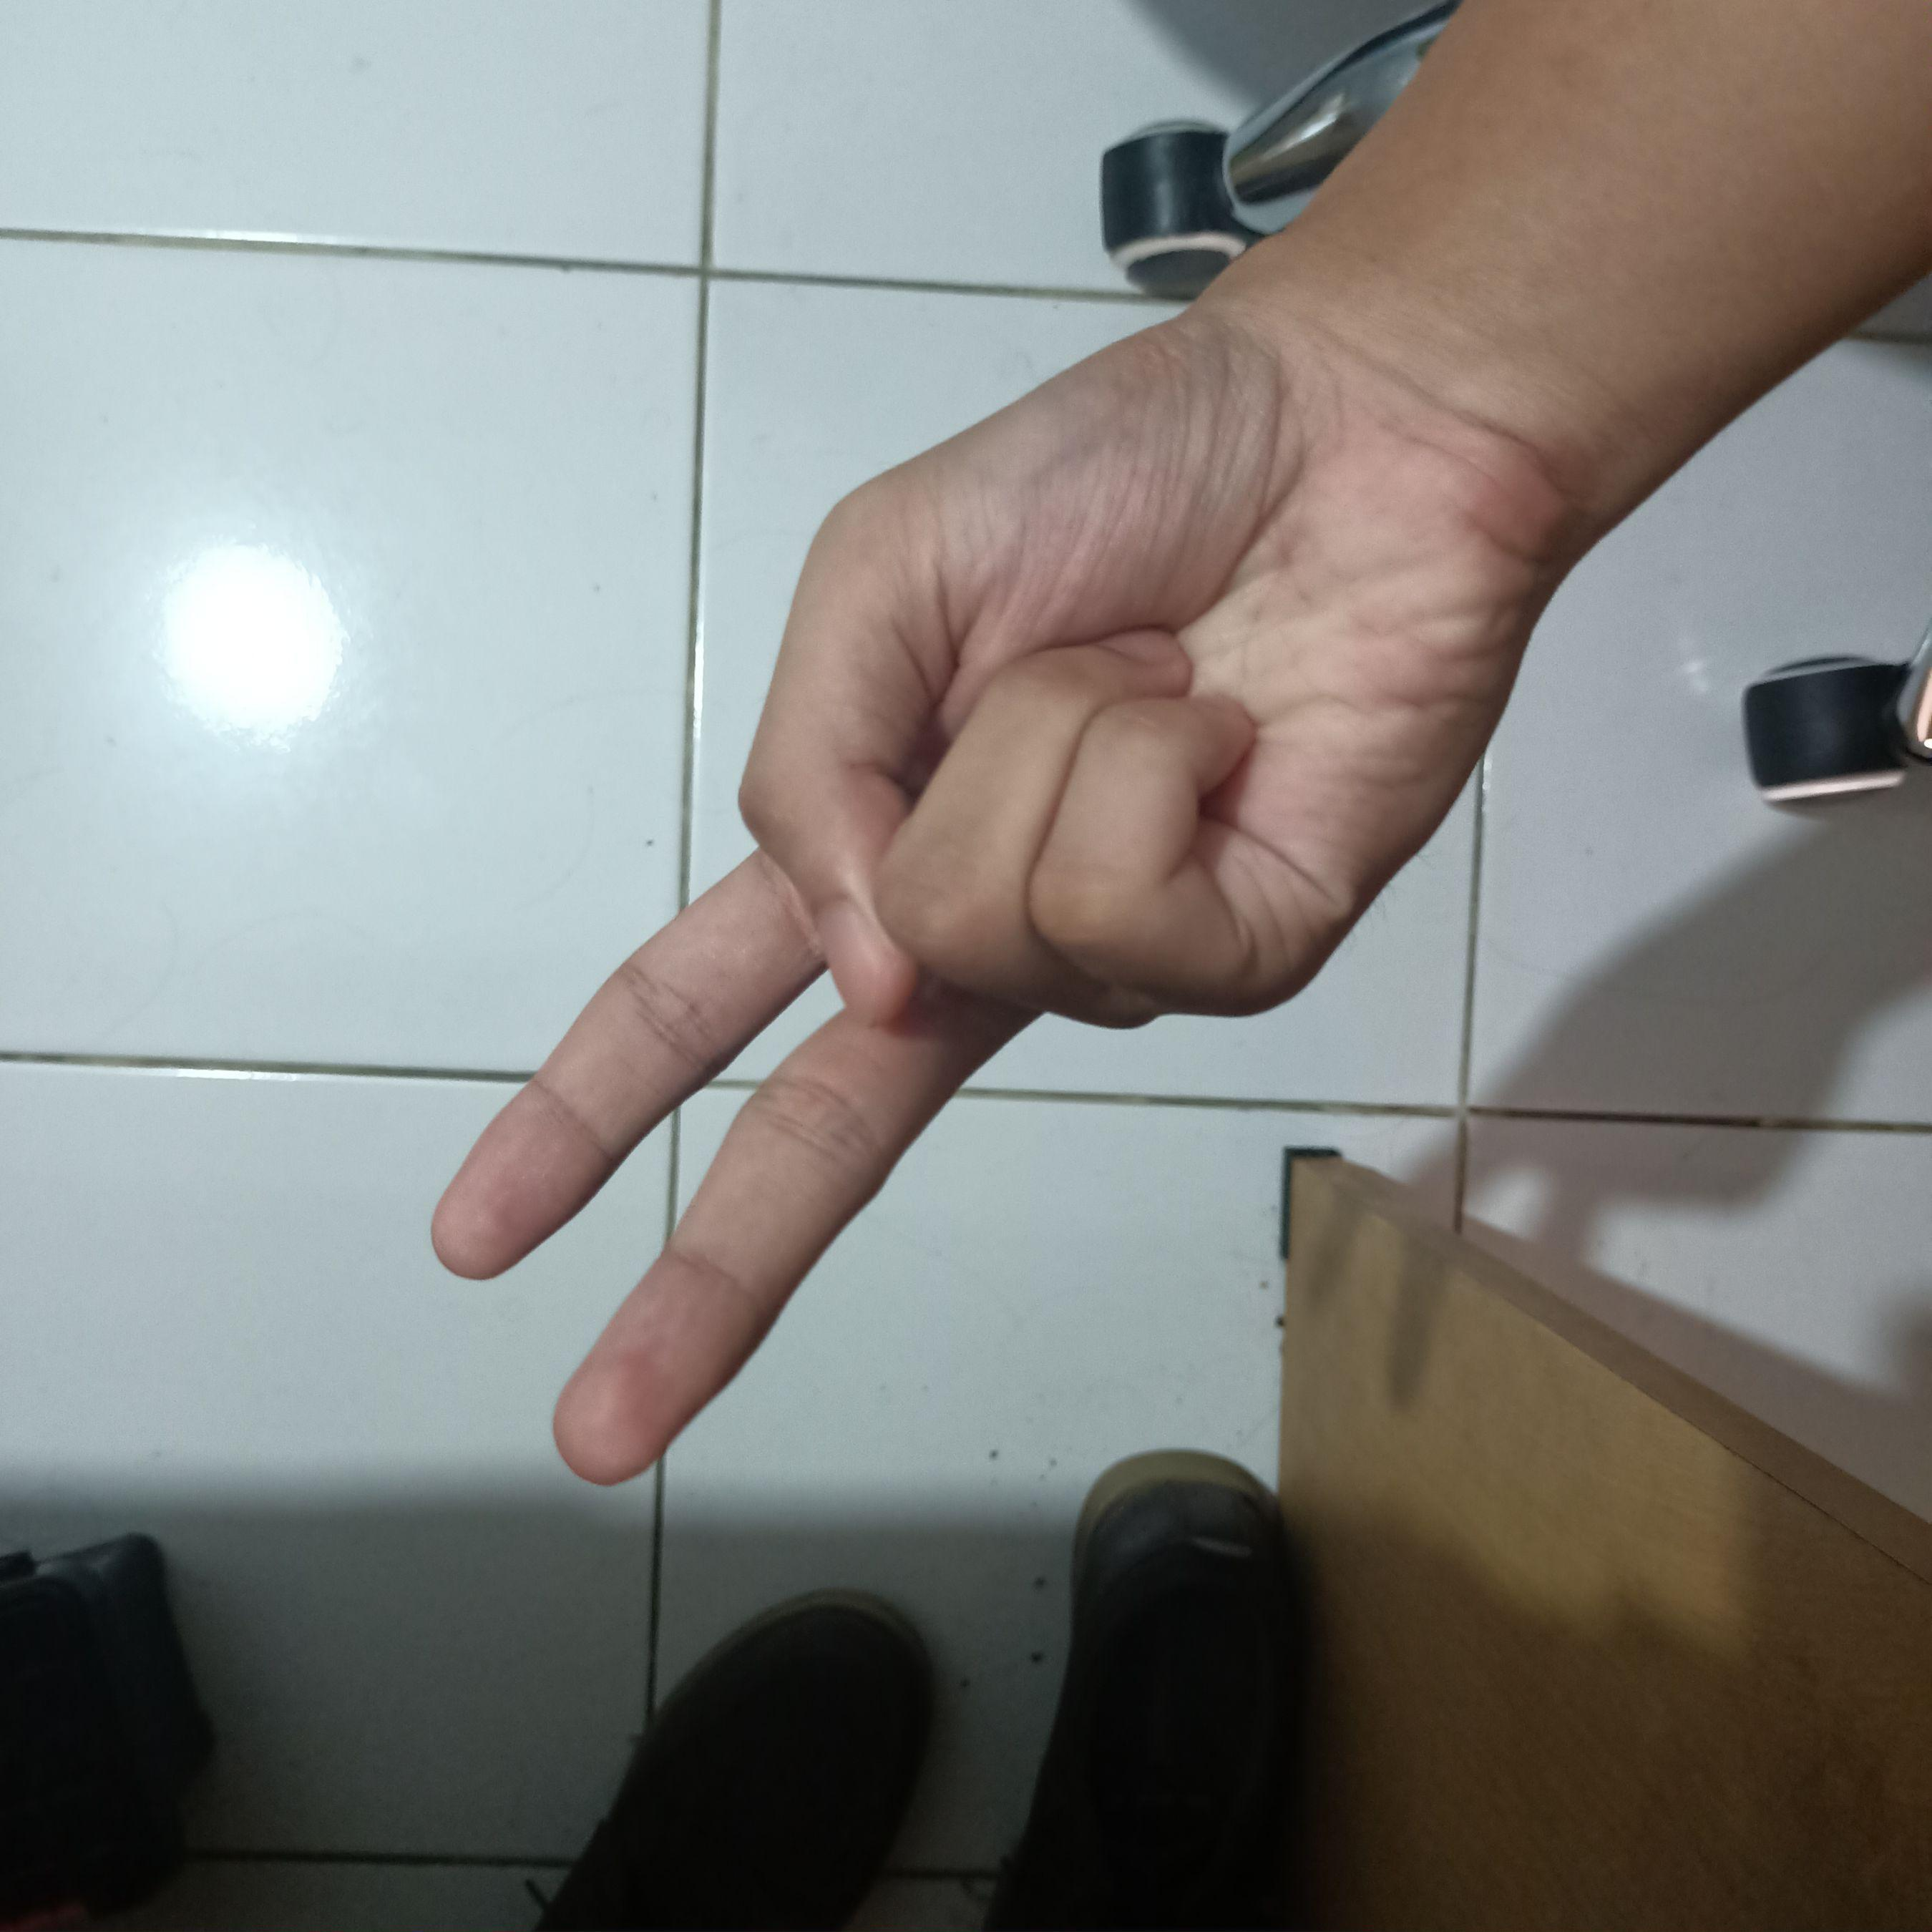scissors: (395, 255, 1589, 1493)
